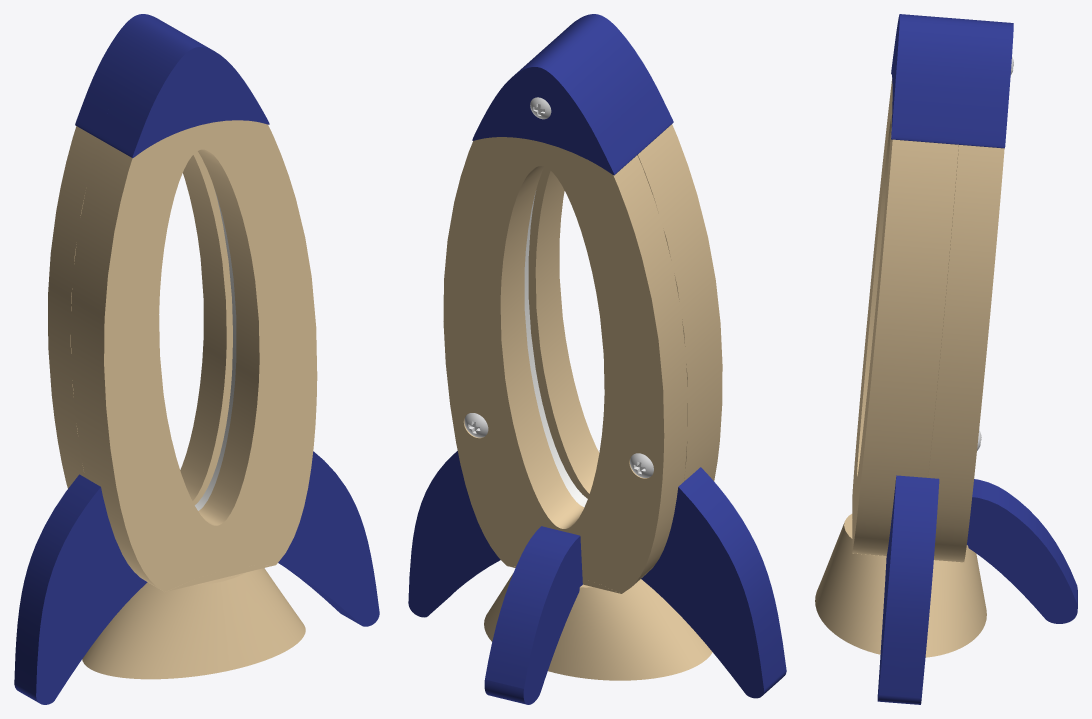
File: cohete v50.fbx
3 views of the same model, side by side, from view 1: azimuth 30°, elevation 25°; view 2: azimuth 150°, elevation 25°; view 3: azimuth 270°, elevation 25° (orthographic). The views are drawn at different scales.
Parts seen in each view (by area): view 1: CUERPO, BASE/TAPA, BASE PILAS, PATA IZQ, cabeza azul (1), PATA DERECHA, cabeza azul, Body49; view 2: BASE/TAPA, CUERPO, PATA IZQ, BASE PILAS, cabeza azul, PATA TRASERA, PATA DERECHA, cabeza azul (1), Body49; view 3: CUERPO, BASE/TAPA, BASE PILAS, PATA DERECHA, cabeza azul (1), PATA TRASERA, cabeza azul.
Part boxes in pixels (x1,y1,x2,y2): CUERPO: (70,120,317,591); BASE/TAPA: (48,126,232,504); BASE PILAS: (82,568,305,679); PATA IZQ: (14,474,147,704); cabeza azul (1): (98,27,269,158); PATA DERECHA: (278,451,379,626); cabeza azul: (75,14,176,137); Body49: (195,191,236,510); BASE/TAPA: (443,137,687,593); CUERPO: (528,124,722,498); PATA IZQ: (641,467,786,698); BASE PILAS: (484,573,712,680); cabeza azul: (472,45,638,175); PATA TRASERA: (484,526,582,704); PATA DERECHA: (408,451,500,617); cabeza azul (1): (539,14,673,153); Body49: (524,190,587,507); CUERPO: (852,78,958,555); BASE/TAPA: (928,145,1004,562); BASE PILAS: (815,514,986,657); PATA DERECHA: (877,475,939,704); cabeza azul (1): (891,14,967,144); PATA TRASERA: (967,479,1077,623); cabeza azul: (959,19,1013,148).
Bounding box in the file's own units: 183 × 312 × 122.
